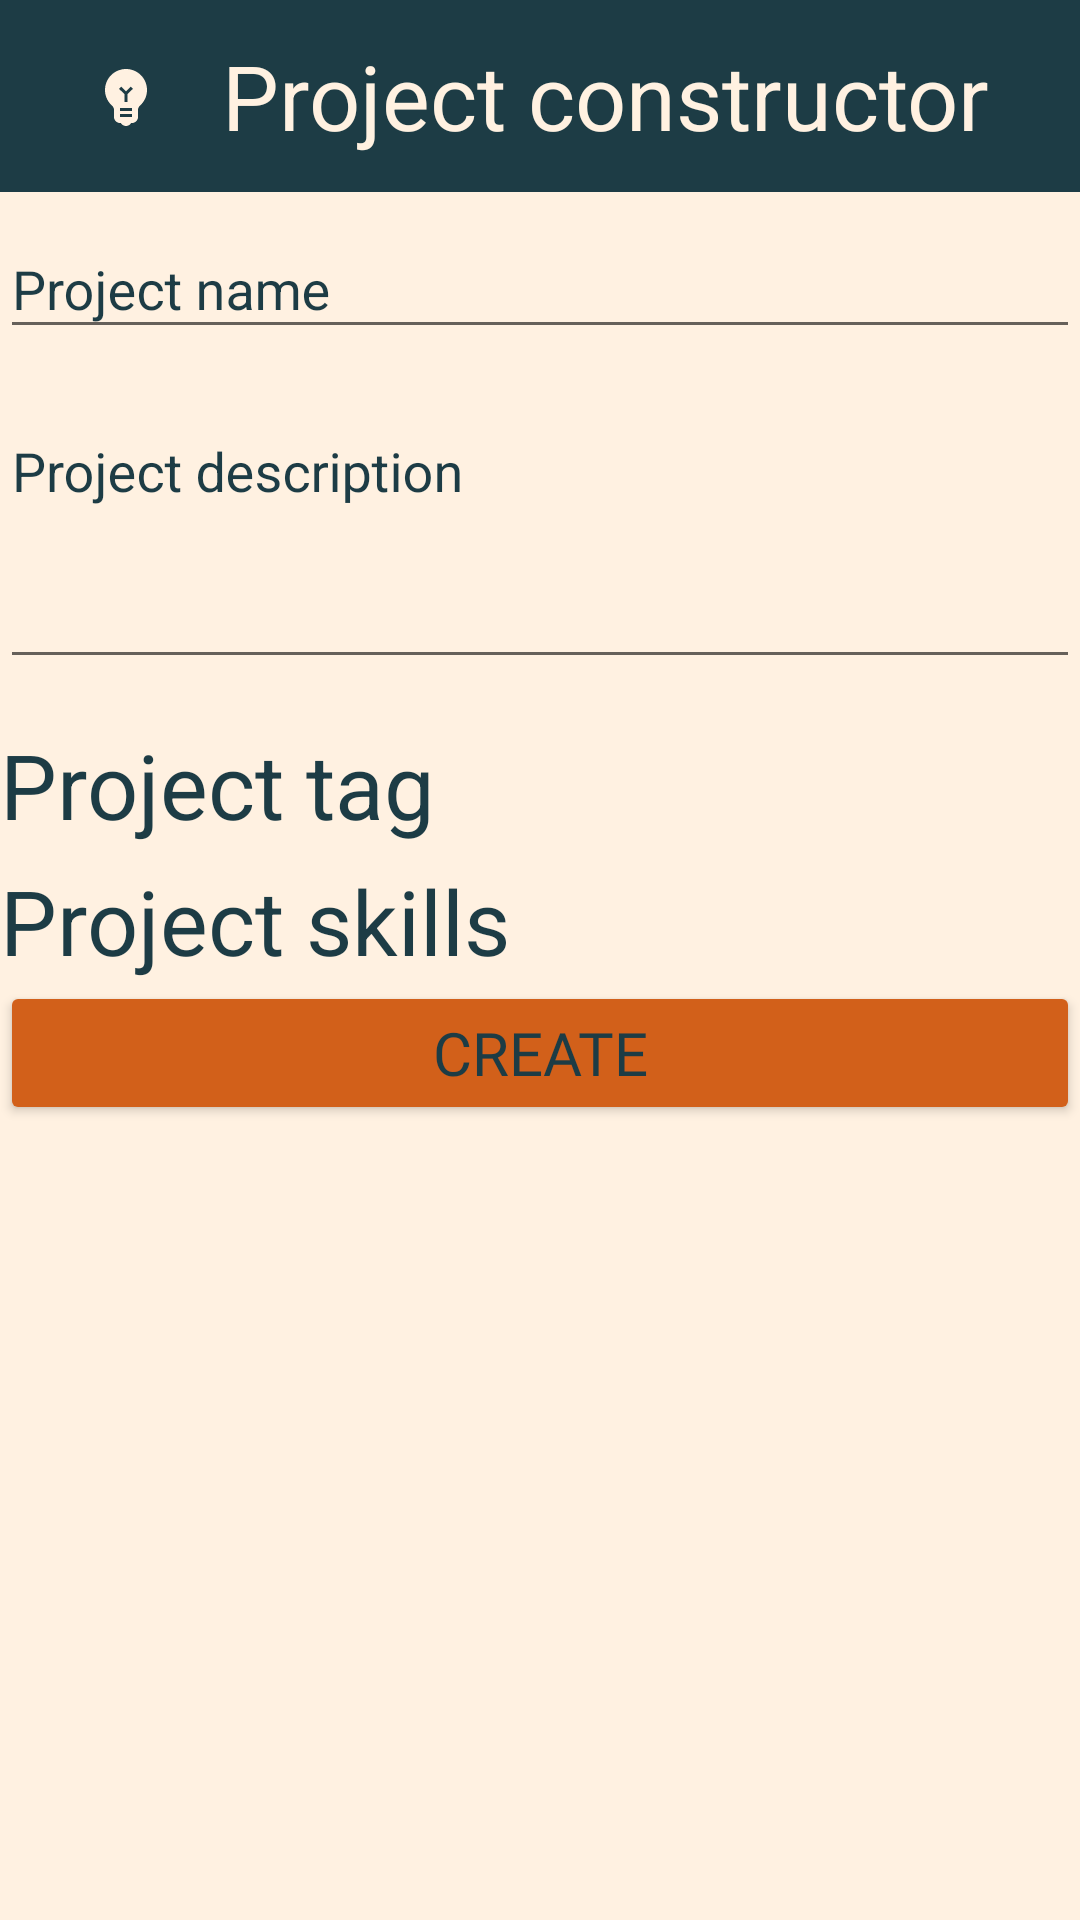

Named icons in this screenshot (1080x1920) and their bounding boxes, (x1, y1, x2, y2):
emoji objects: (105, 69, 147, 126)
